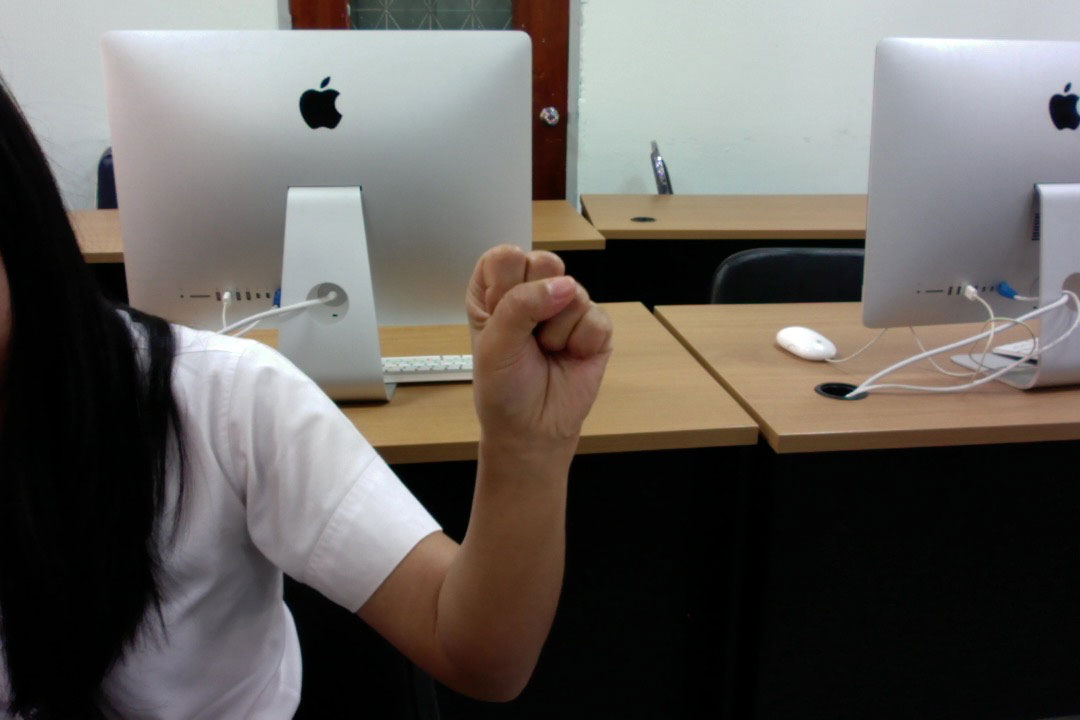sor: (453, 234, 625, 461)
